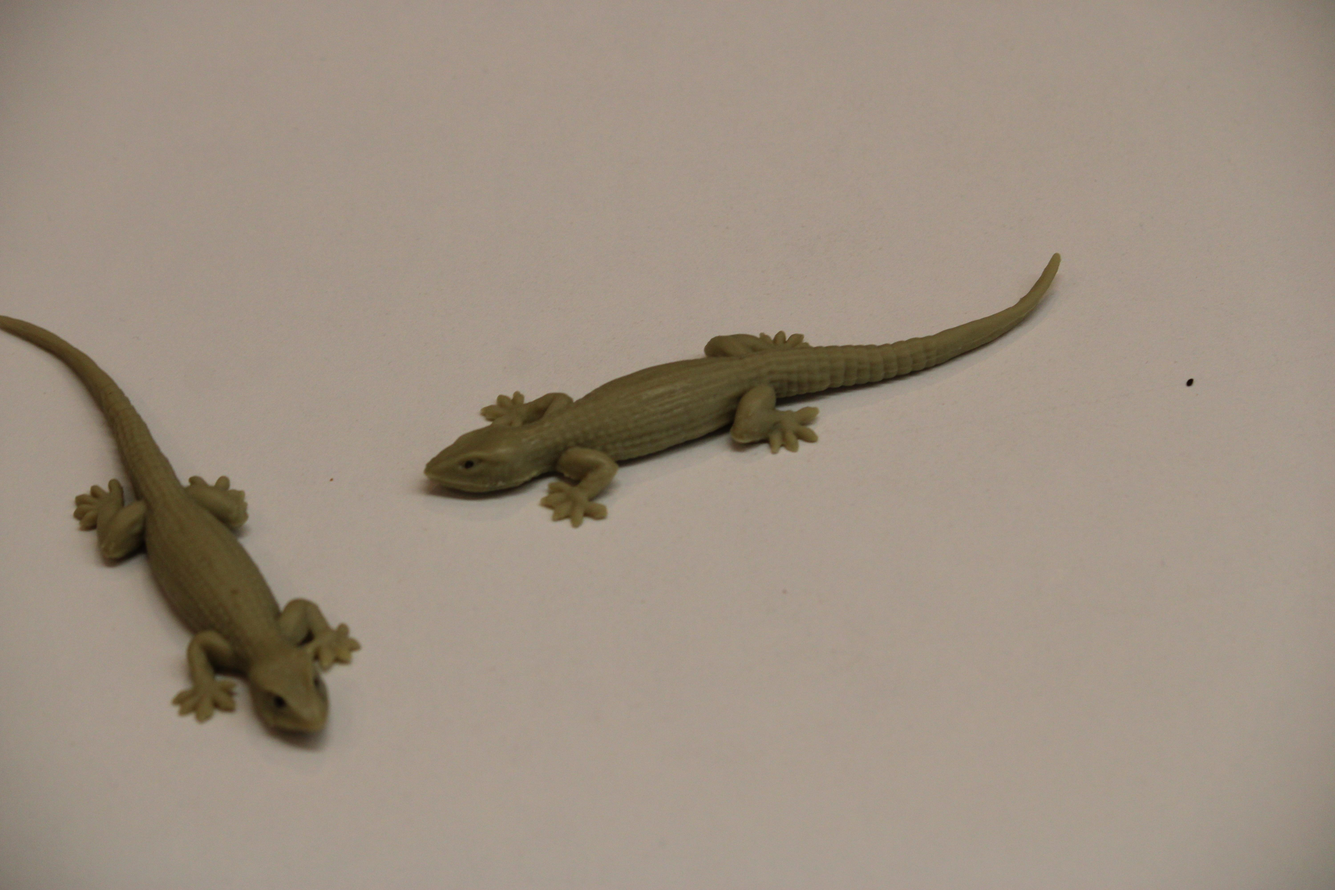lizard: (419, 250, 1057, 522), (0, 303, 359, 758)
